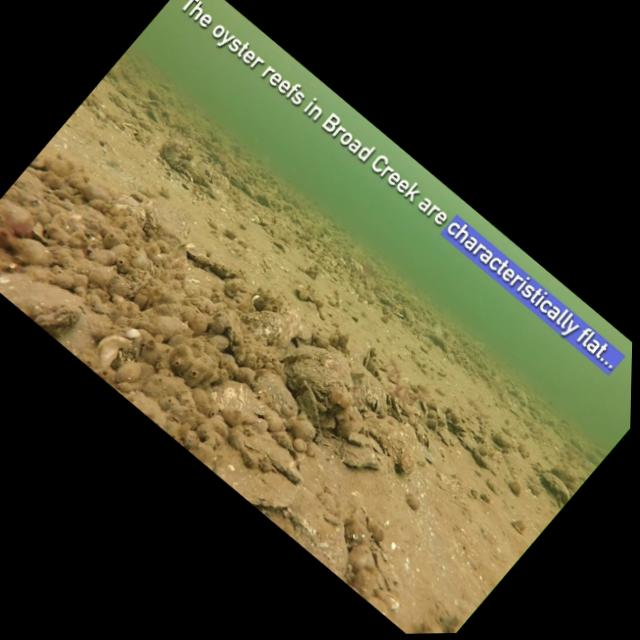Oyster-Closed: (496, 376, 535, 414)
Oyster-Indeterminate: (205, 434, 309, 531), (352, 393, 446, 481), (191, 366, 283, 454), (11, 272, 99, 356), (276, 381, 351, 451), (239, 363, 311, 432), (227, 294, 295, 359), (332, 356, 398, 420), (131, 192, 197, 255), (172, 252, 231, 310), (3, 220, 63, 277), (259, 296, 316, 355), (87, 324, 142, 379), (330, 430, 385, 483), (102, 183, 154, 233), (527, 464, 576, 510), (152, 133, 199, 179), (198, 246, 245, 290), (0, 192, 41, 240), (331, 510, 372, 552), (341, 536, 382, 578), (357, 584, 400, 623), (172, 232, 213, 271), (344, 562, 383, 601), (483, 423, 523, 461), (546, 454, 585, 492), (4, 177, 43, 214), (419, 322, 459, 358), (403, 418, 441, 454), (26, 217, 63, 252), (395, 486, 430, 522), (139, 101, 175, 135), (364, 562, 399, 595), (448, 427, 483, 460), (139, 81, 172, 112), (188, 152, 220, 182), (350, 280, 380, 310), (372, 581, 402, 611), (343, 255, 374, 284), (429, 419, 459, 447), (469, 431, 497, 460), (410, 393, 439, 421), (395, 301, 423, 329), (439, 404, 467, 430), (428, 404, 455, 430), (250, 188, 276, 215), (501, 476, 528, 501), (235, 206, 261, 231), (27, 151, 51, 176), (251, 205, 275, 230), (366, 523, 390, 548), (506, 516, 531, 540), (261, 221, 287, 244), (374, 290, 399, 312), (421, 407, 443, 429), (185, 164, 206, 184), (226, 170, 246, 190), (237, 181, 257, 200), (156, 79, 175, 99), (227, 141, 246, 160), (247, 211, 262, 227)
Oyster-Open: (273, 329, 360, 412), (192, 174, 223, 203), (179, 169, 196, 185)
